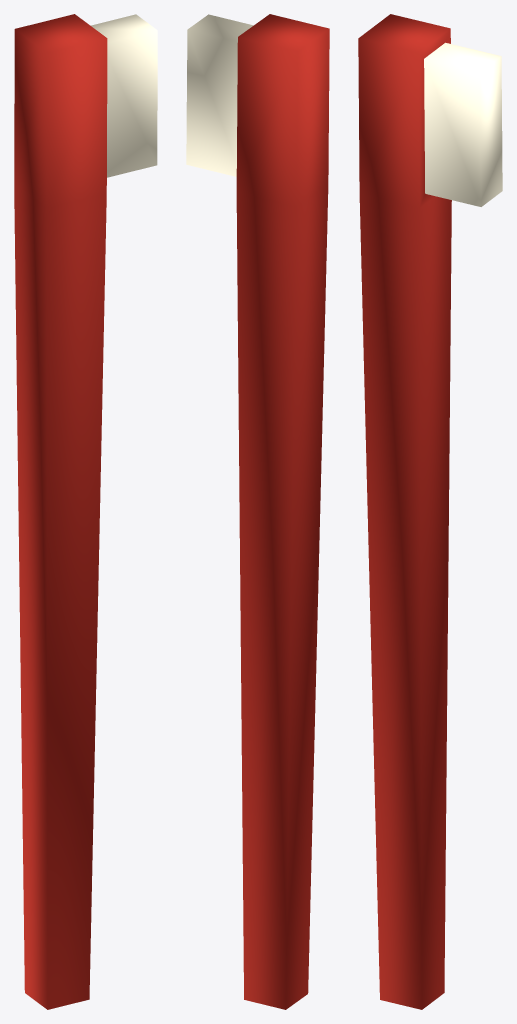
The model's file is ToothBrush.001.glb.
The picture shows the model from 3 angles, left to right: view 1: azimuth 30°, elevation 25°; view 2: azimuth 150°, elevation 25°; view 3: azimuth 330°, elevation 25°; orthographic projection.
Visible parts, largest first — view 1: ToothBrush.001; view 2: ToothBrush.001; view 3: ToothBrush.001.
Part boxes in pixels (left/top/right/bottom): ToothBrush.001: left=14, top=14, right=157, bottom=1009; ToothBrush.001: left=186, top=14, right=329, bottom=1009; ToothBrush.001: left=358, top=14, right=502, bottom=1009.
Size of the model in its own units: 0.0328 by 0.2598 by 0.0163.
1 material, 1 textured.
